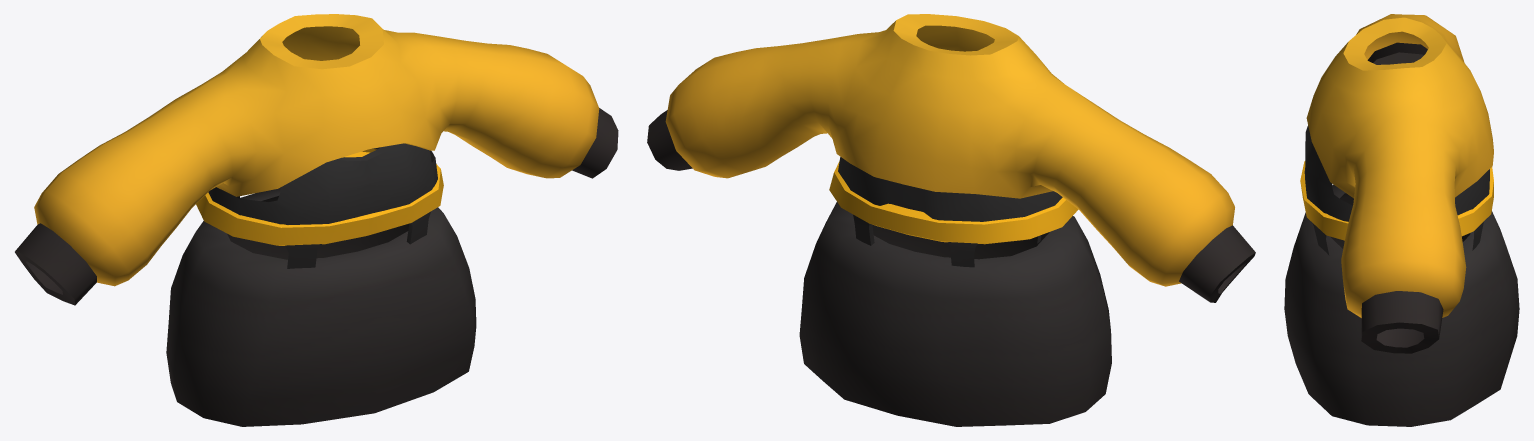
The model's file is Outfit_04.glb.
3 renders of one model, left to right at view 1: azimuth 30°, elevation 25°; view 2: azimuth 150°, elevation 25°; view 3: azimuth 270°, elevation 25°, orthographic. The views are drawn at different scales.
Visible parts, largest first — view 1: Outfit_04; view 2: Outfit_04; view 3: Outfit_04.
Part boxes in pixels (left/top/right/bottom): Outfit_04: left=15, top=14, right=618, bottom=426; Outfit_04: left=647, top=14, right=1255, bottom=426; Outfit_04: left=1284, top=14, right=1519, bottom=426.
Bounding box in the file's own units: 0.6429 × 0.3618 × 0.2373.
1 material, 1 textured.
